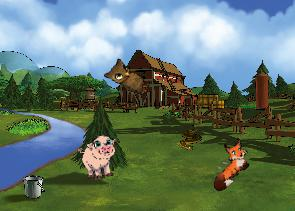fox: (197, 134, 259, 194)
owl: (102, 55, 155, 96)
pig: (77, 134, 121, 181)
